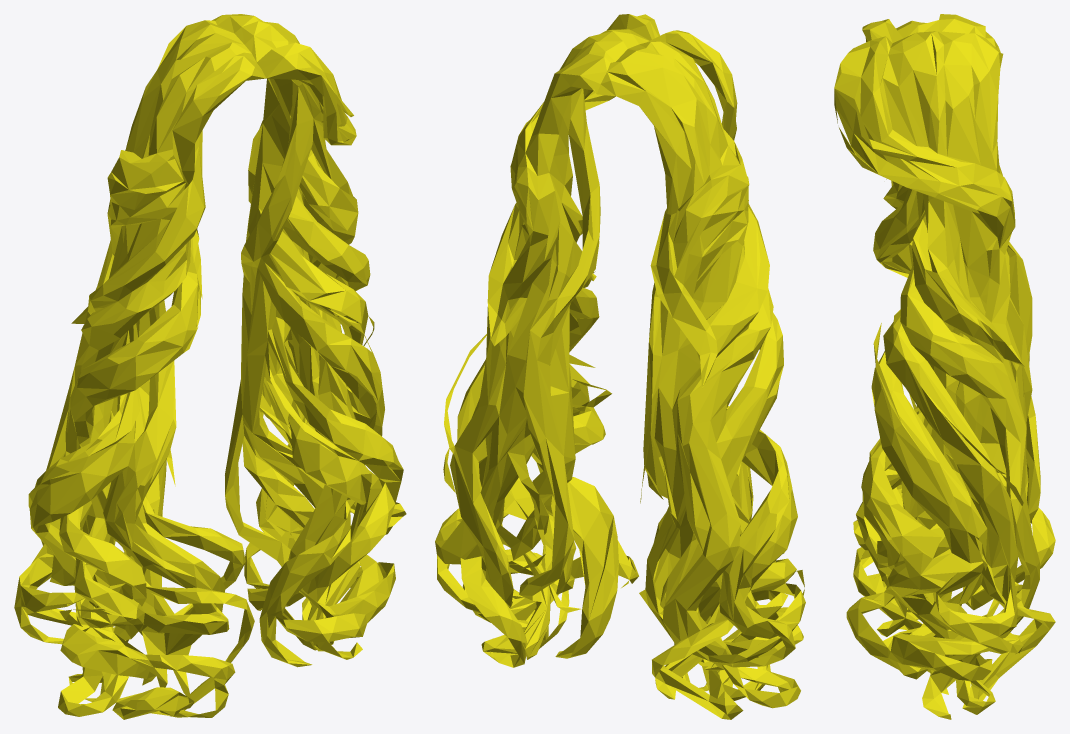
The model's file is hair.glb.
3 renders of one model, left to right at view 1: azimuth 30°, elevation 25°; view 2: azimuth 150°, elevation 25°; view 3: azimuth 270°, elevation 25°, orthographic. The views are drawn at different scales.
Parts seen in each view (by area): view 1: Mesh1.0; view 2: Mesh1.0; view 3: Mesh1.0.
Boxes of the visible parts, x1=… form: Mesh1.0: x1=14, y1=14, x2=406, y2=719; Mesh1.0: x1=435, y1=14, x2=805, y2=719; Mesh1.0: x1=834, y1=14, x2=1055, y2=719.
Bounding box in the file's own units: 1.1 × 1.89 × 0.5912.
